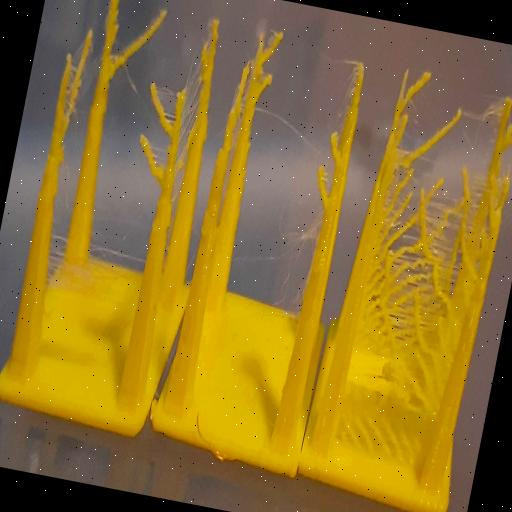stringing: (340, 154, 500, 452), (394, 59, 512, 183), (168, 34, 218, 190), (107, 0, 175, 94), (130, 80, 182, 190), (306, 120, 349, 225), (60, 30, 101, 140), (250, 28, 290, 114)
